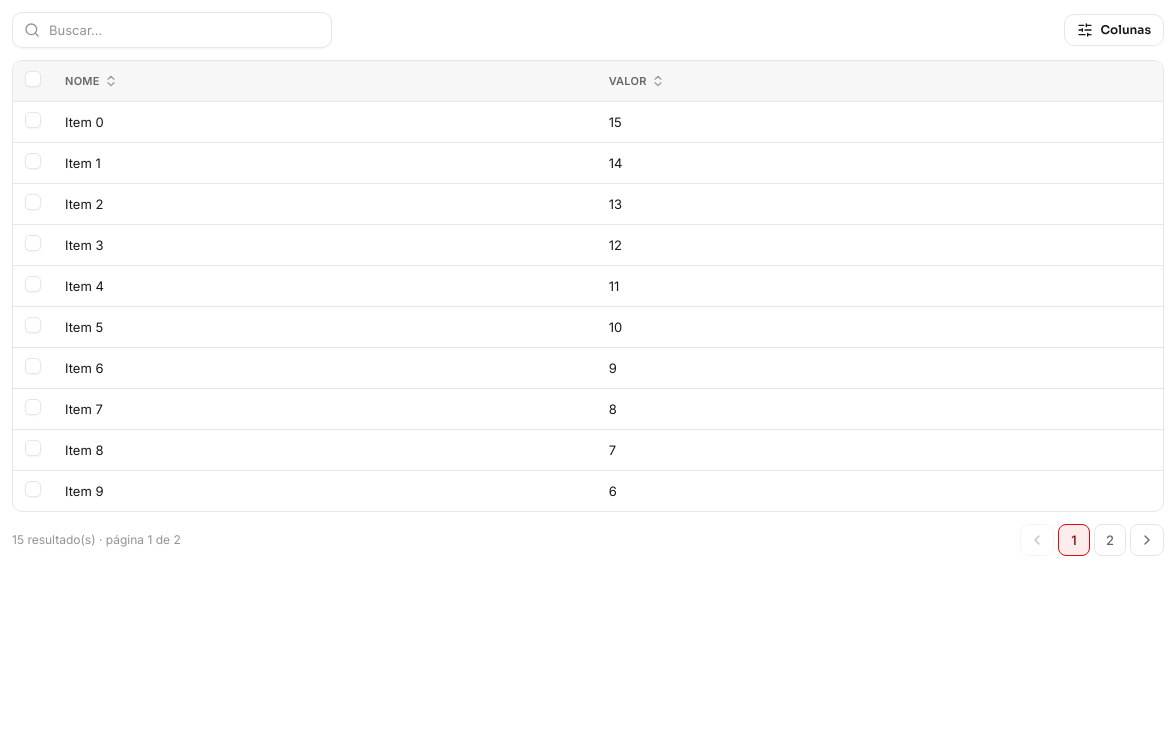
Scenario: DataTable › ordena por Valor (ascendente) ao clicar no cabeçalho
The width and height of the screenshot is (1176, 732).
Click the button with aria-label "Ordenar por Valor": [637, 81] box x1=605 y1=71 x2=669 y2=91
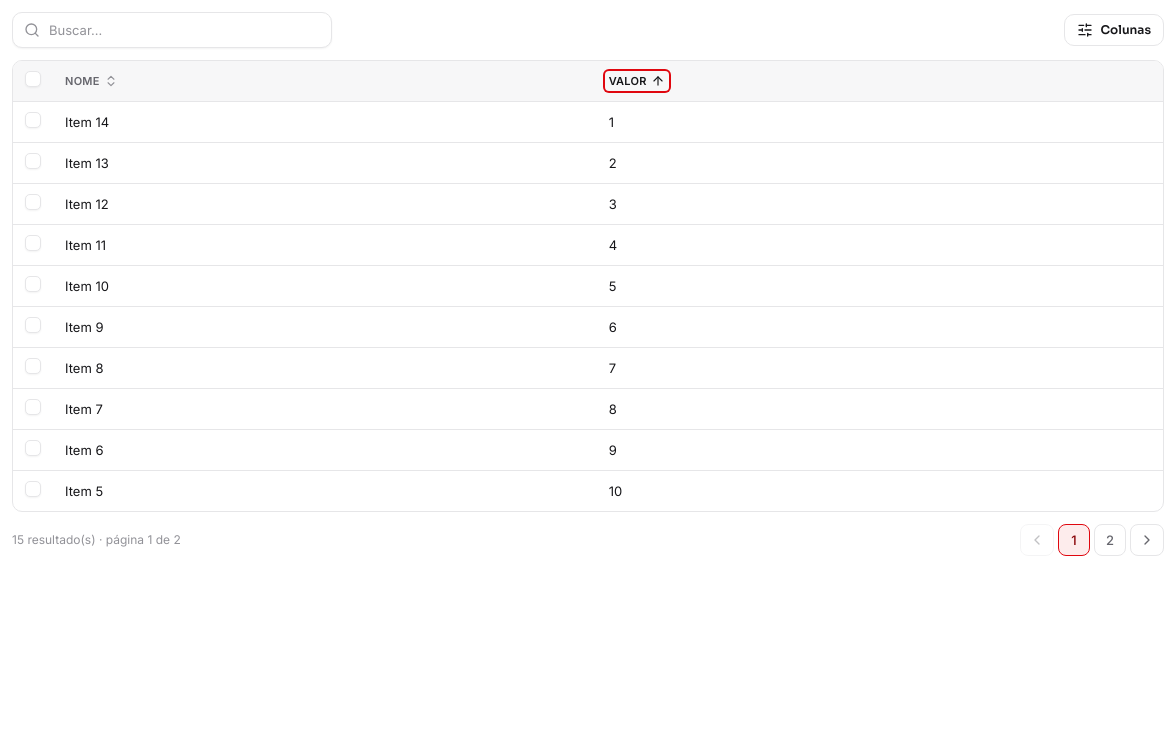
expect the row "Item 14 1" is shown: met, box x1=13 y1=101 x2=1163 y2=142
